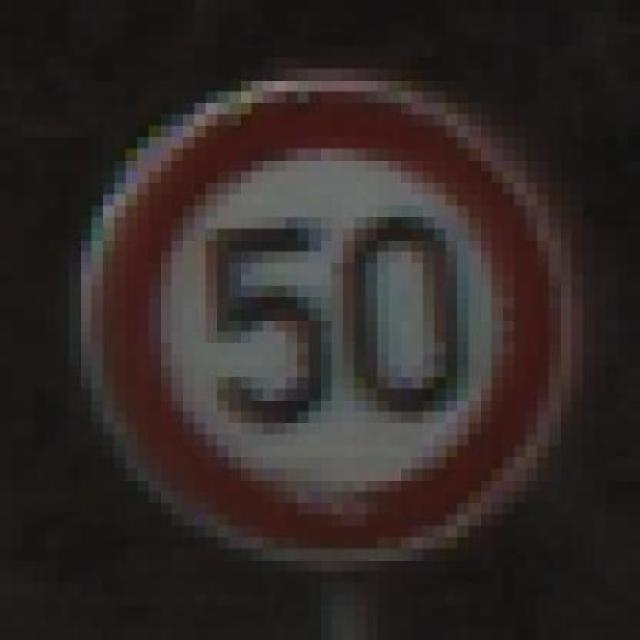50 mph speed limit: (57, 57, 594, 572)
